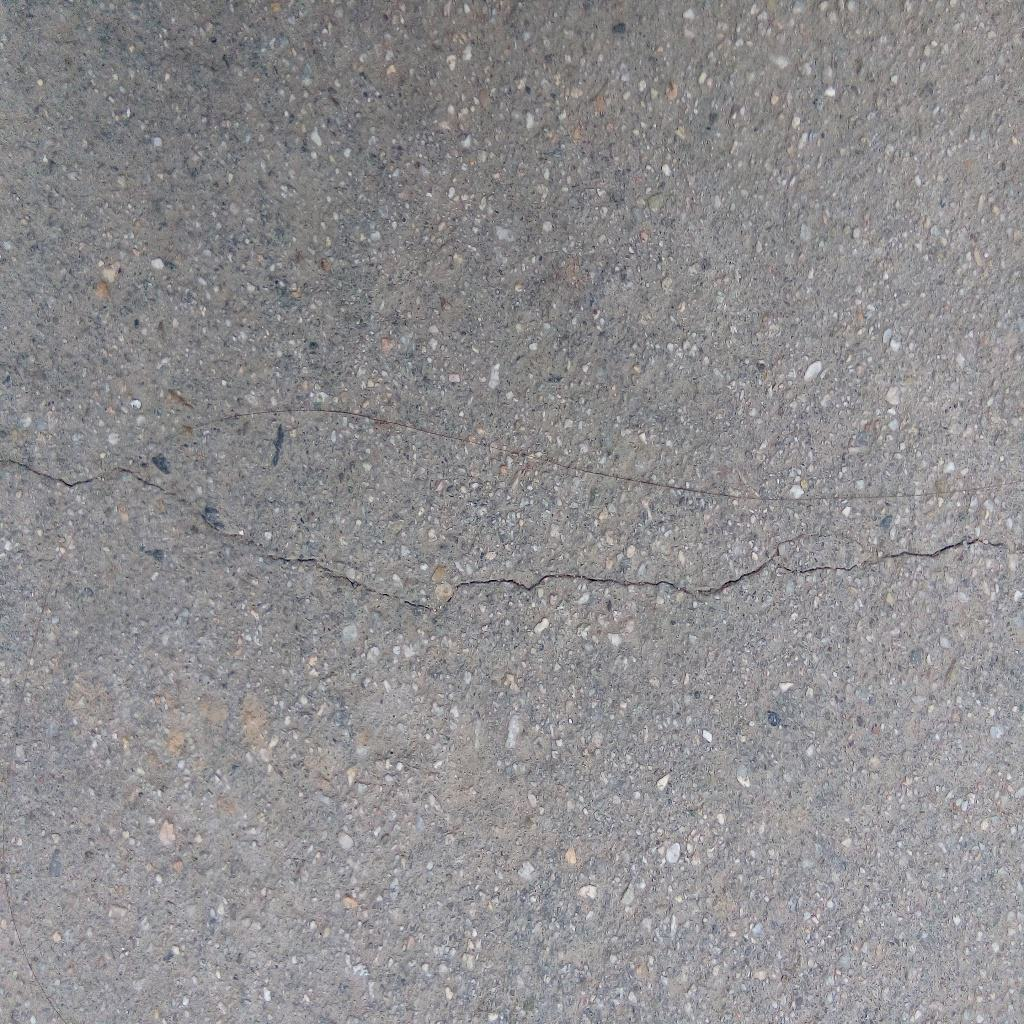Crack: (1, 460, 1024, 617)
